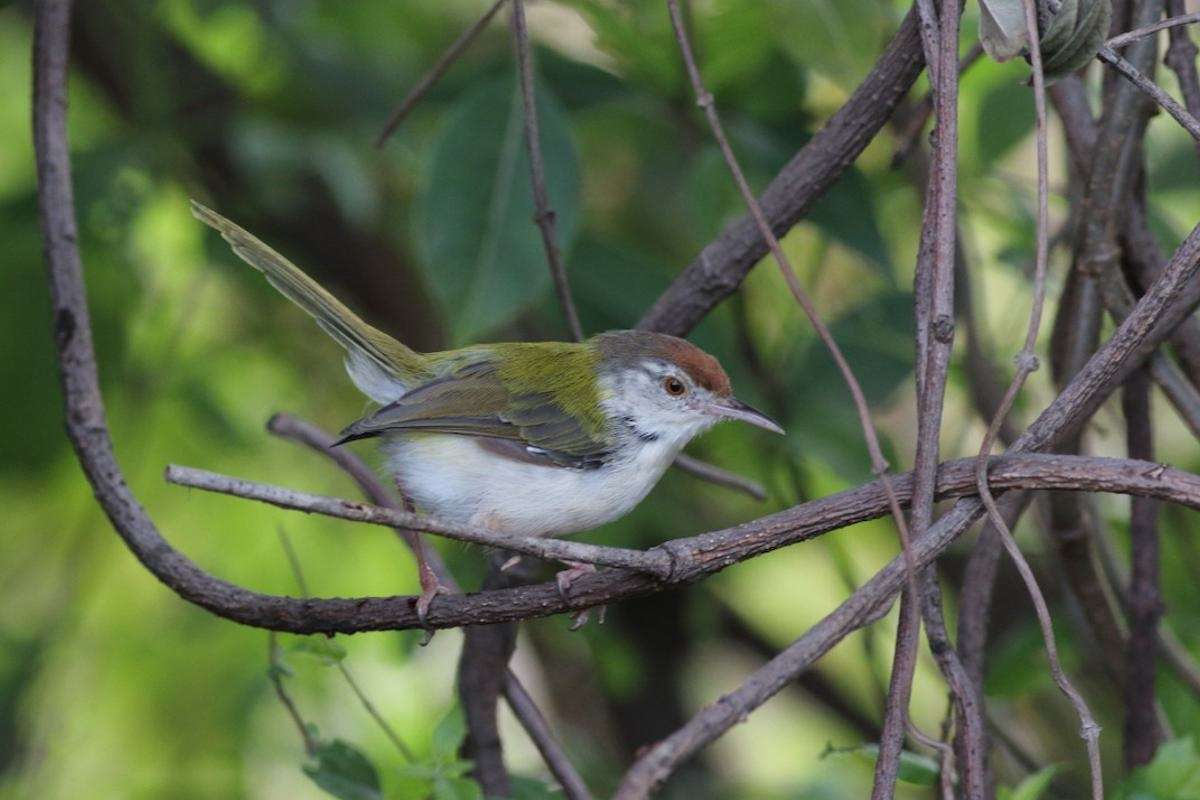tailorbird: (170, 186, 773, 603)
